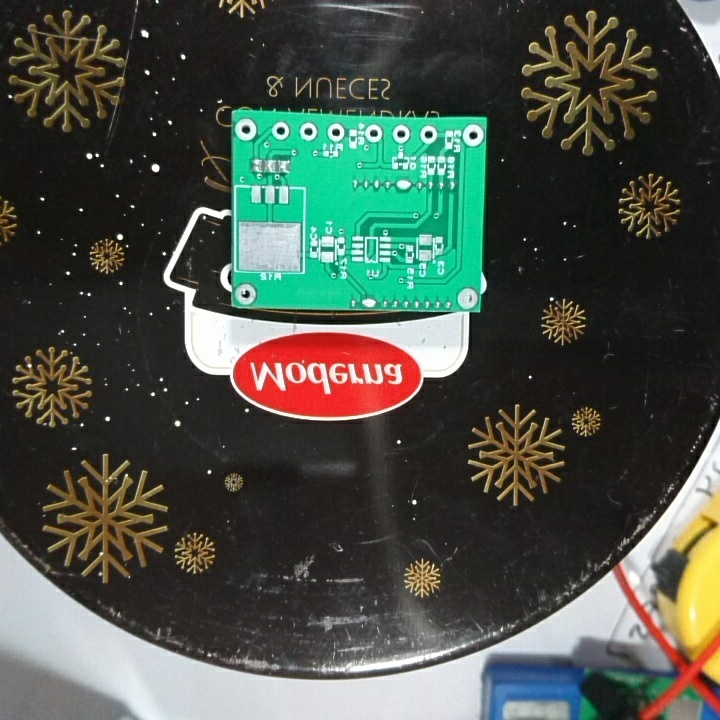F: (459, 123, 487, 150), (233, 117, 259, 146), (233, 281, 259, 306), (387, 123, 416, 145), (454, 286, 480, 310), (324, 119, 347, 145), (296, 120, 321, 143), (363, 121, 384, 146), (270, 120, 292, 143), (419, 123, 441, 145)
P: (359, 294, 379, 311), (394, 178, 413, 195)
